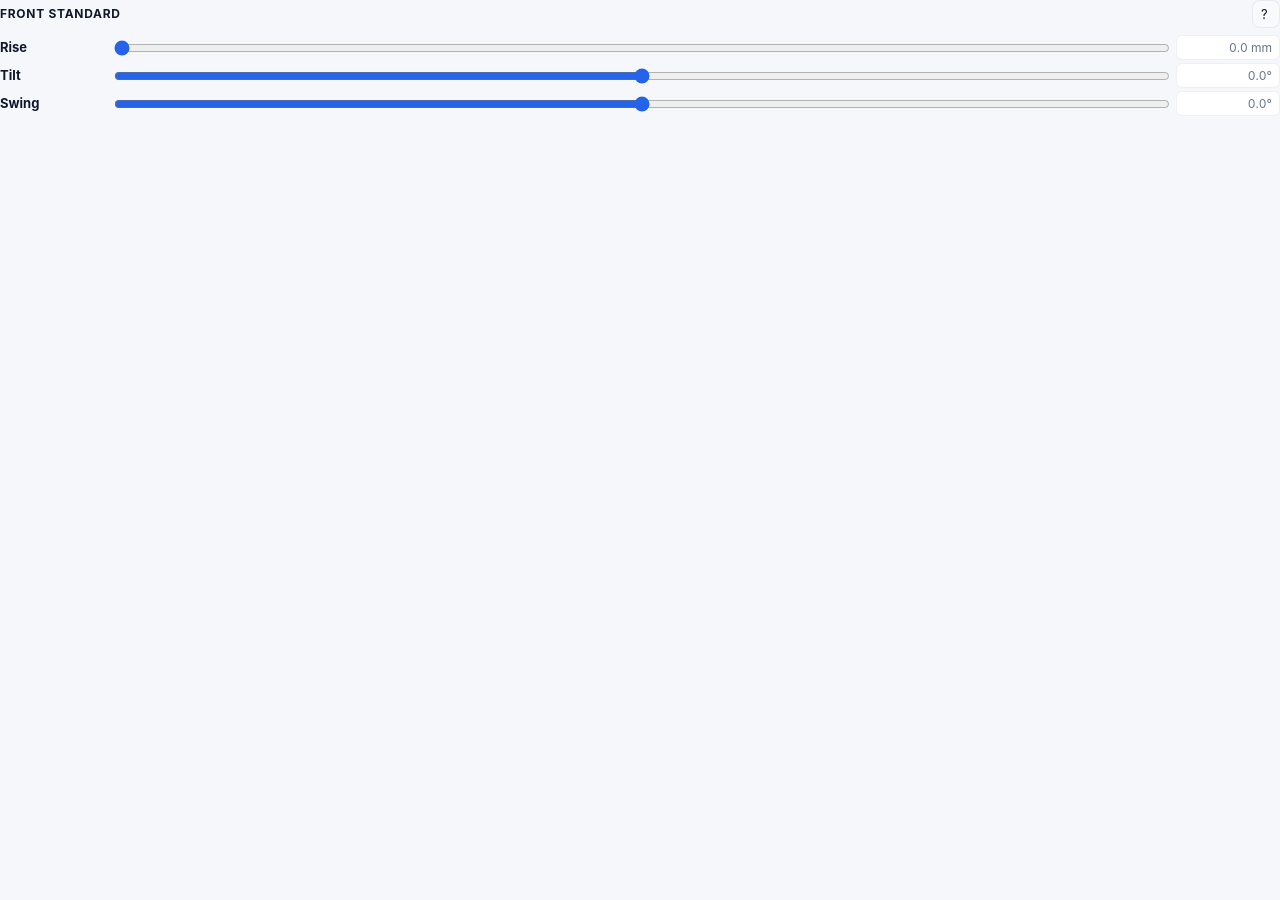
Movement Help › describes Front Rise, Front Tilt, and Front Swing in English
Click the button named "Help".
click(1266, 14)  # box 1252,0 -> 1279,28
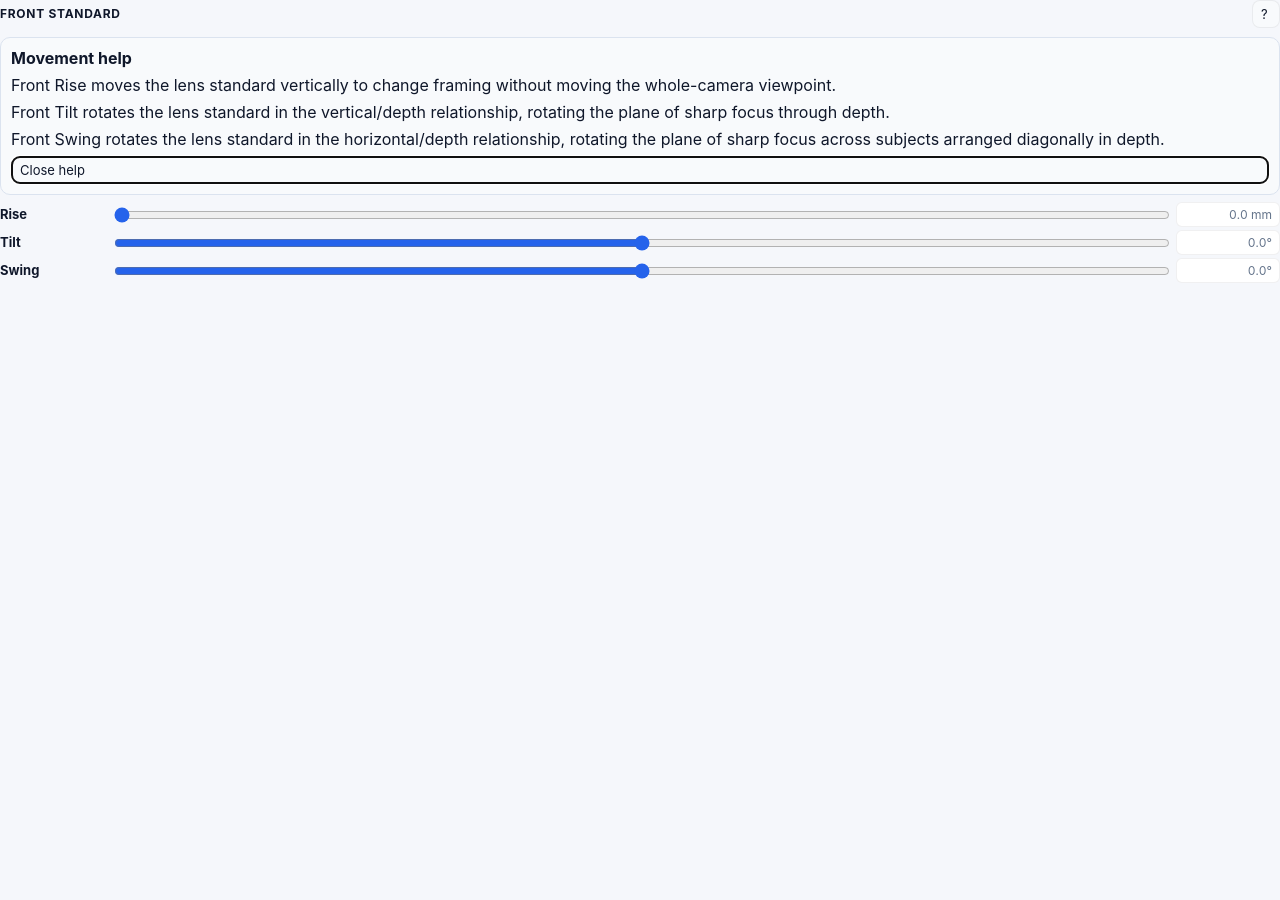
Check: the dialog is shown, box 0,37 -> 1279,195
Check: the heading "Movement help" is shown, box 11,48 -> 132,68
Check: the text "Front Rise moves the lens standard" is shown, box 11,75 -> 836,95
